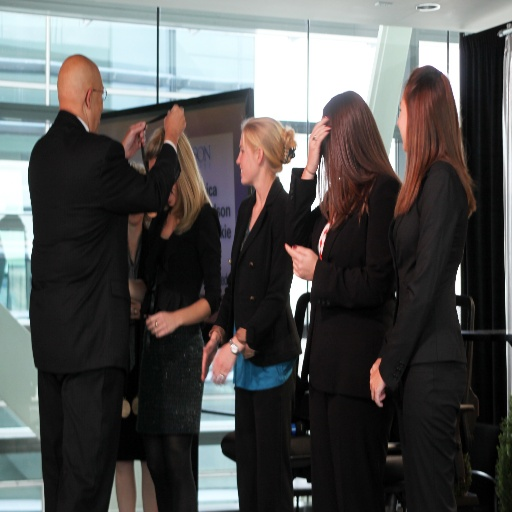hand: (286, 237, 328, 290), (307, 116, 332, 173), (211, 339, 236, 387), (121, 119, 147, 159), (161, 103, 186, 143), (143, 309, 176, 336), (371, 357, 386, 409), (201, 346, 213, 386), (129, 300, 141, 320)
